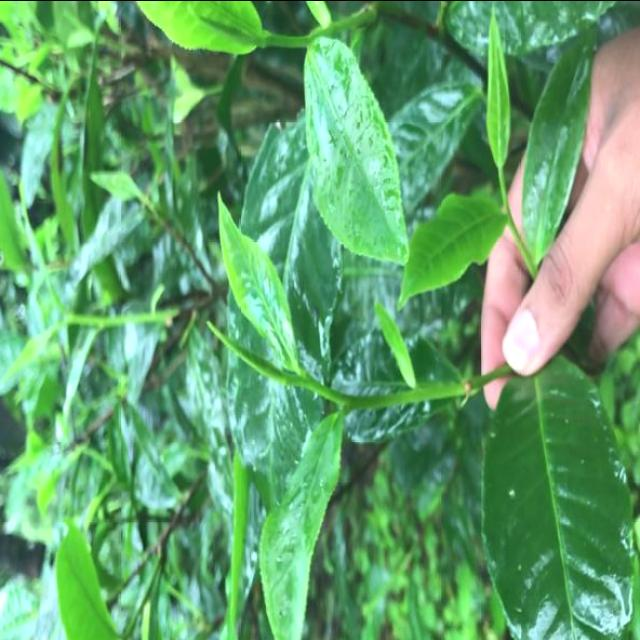Stem: (348, 396, 368, 409), (267, 35, 279, 44), (69, 316, 79, 323), (508, 221, 514, 228)
